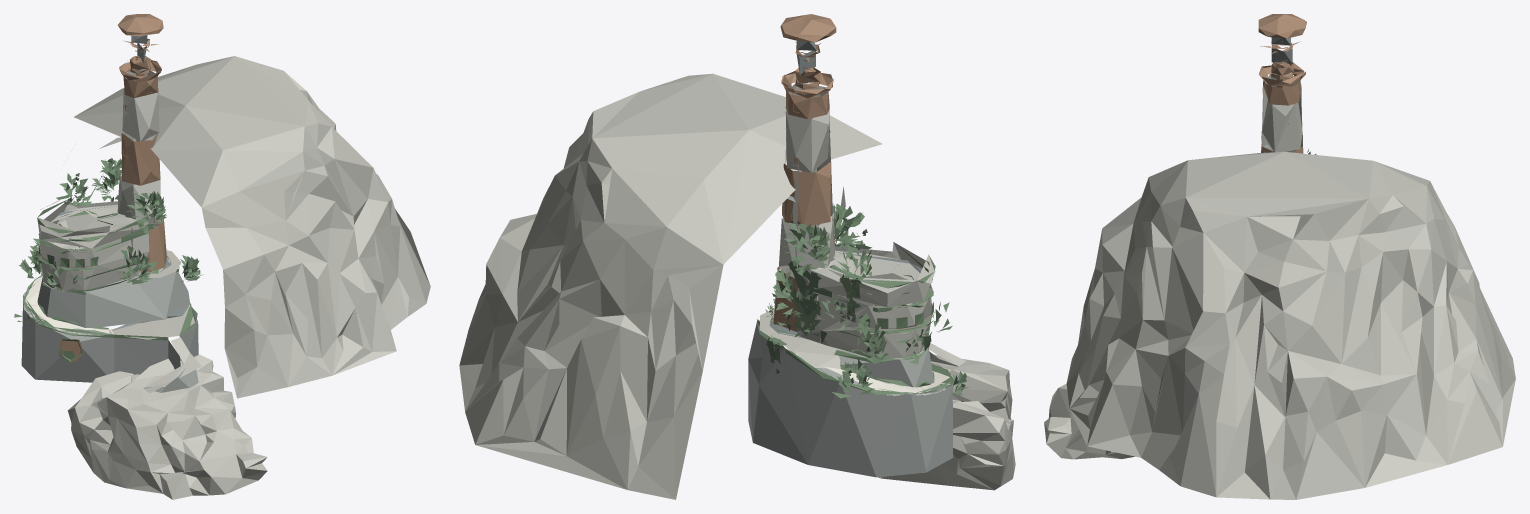
The model's file is lighthouse.glb.
3 views of the same model, side by side, from view 1: azimuth 30°, elevation 25°; view 2: azimuth 150°, elevation 25°; view 3: azimuth 270°, elevation 25° (orthographic). The views are drawn at different scales.
Parts seen in each view (by area): view 1: ground_cloth_a_LOD0, a_lighthouse_int_LOD0, conc_pile_6x6_LOD0, a_lighthouse_ext_LOD0; view 2: ground_cloth_a_LOD0, conc_pile_6x6_LOD0, a_lighthouse_int_LOD0, a_lighthouse_ext_LOD0; view 3: ground_cloth_a_LOD0, a_lighthouse_int_LOD0.
Part boxes in pixels (x1=…): ground_cloth_a_LOD0: x1=26, y1=56, x2=430, y2=499; a_lighthouse_int_LOD0: x1=14, y1=14, x2=202, y2=362; conc_pile_6x6_LOD0: x1=21, y1=137, x2=198, y2=392; a_lighthouse_ext_LOD0: x1=25, y1=276, x2=113, y2=334; ground_cloth_a_LOD0: x1=459, y1=73, x2=1015, y2=499; conc_pile_6x6_LOD0: x1=748, y1=196, x2=957, y2=477; a_lighthouse_int_LOD0: x1=757, y1=14, x2=968, y2=398; a_lighthouse_ext_LOD0: x1=796, y1=353, x2=951, y2=393; ground_cloth_a_LOD0: x1=1044, y1=74, x2=1515, y2=499; a_lighthouse_int_LOD0: x1=1258, y1=14, x2=1316, y2=154.
Bounding box in the file's own units: 86.7 × 83.2 × 81.82.
